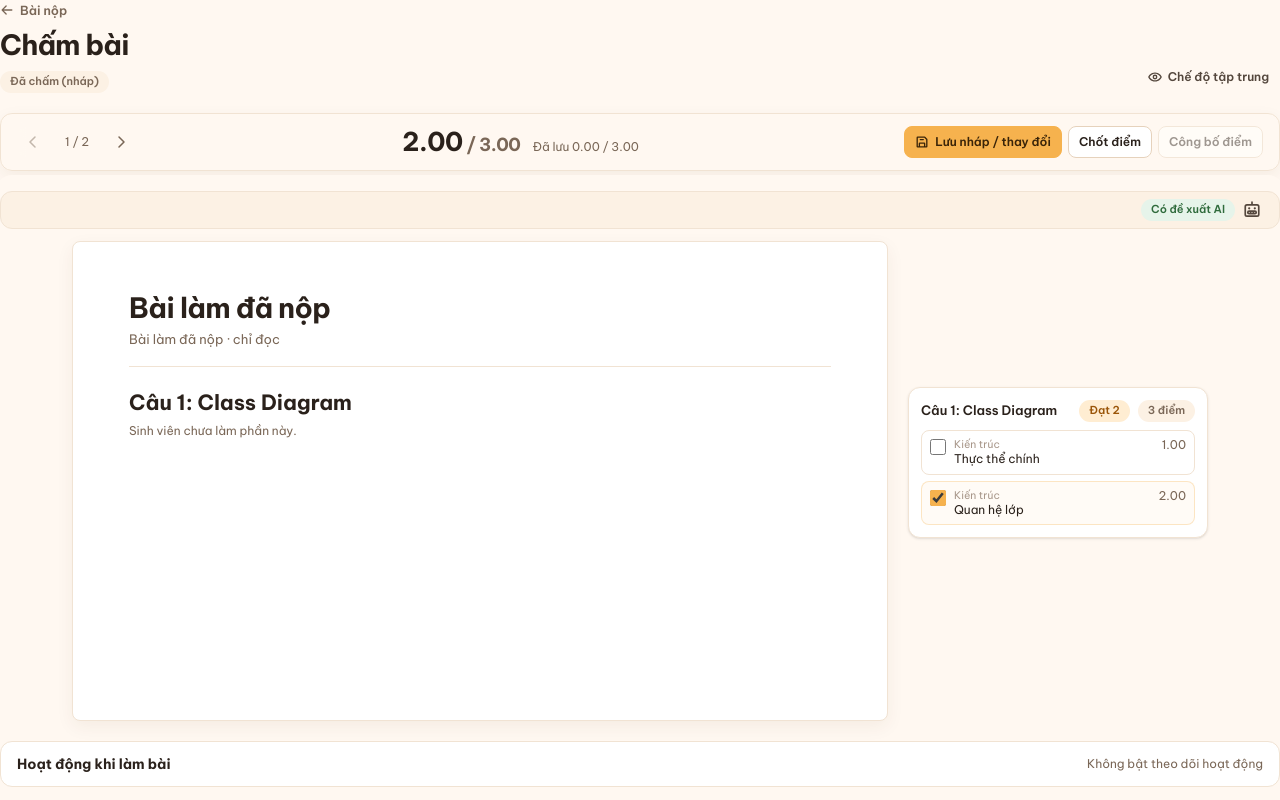
Test case: AI proposal comparison and draft application › compares the current checklist with the AI proposal and applies only to the local draft
Expected: the text "Có đề xuất AI" is shown, [1141,199,1235,221]
Click the button named "Chấm bằng AI". click: click(1252, 210)
box: [1237,196,1267,224]
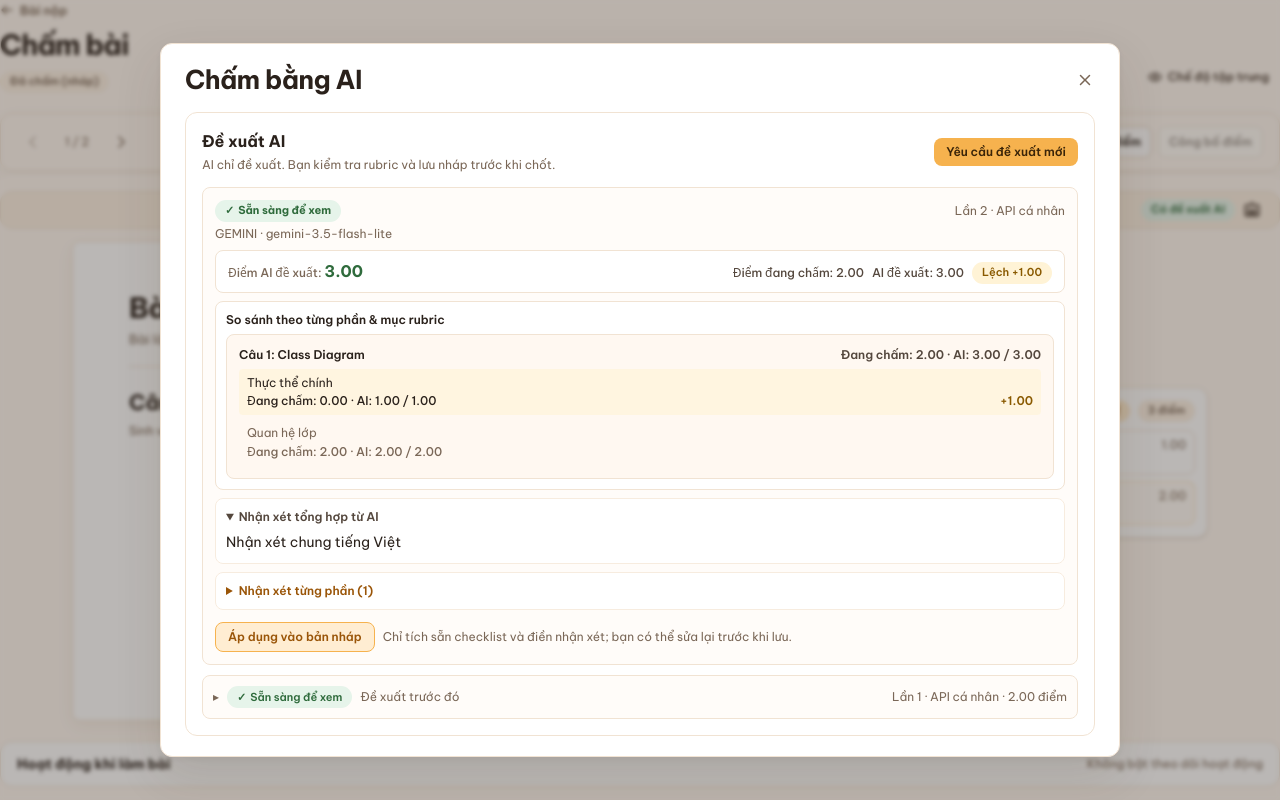
Now the dialog "Chấm bằng AI" shows "Điểm đang chấm: 2.00"
Now the dialog "Chấm bằng AI" shows "AI đề xuất: 3.00"
Now the dialog "Chấm bằng AI" shows "Lệch +1.00"
Click the button "Áp dụng vào bản nháp". click: click(295, 637)
box: [215,622,375,652]
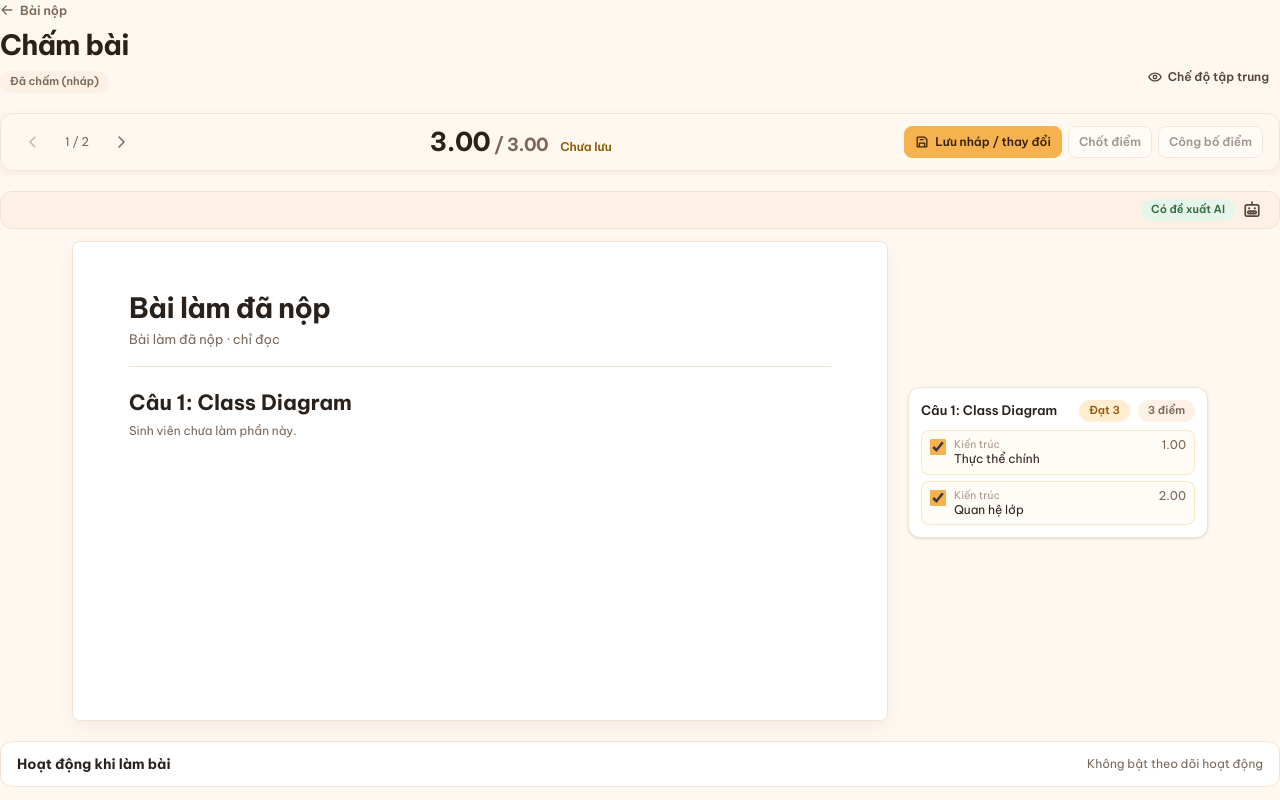
Now the dialog is gone
Now the checkbox labelled "Kiến trúc Thực thể chính 1.00" is checked, box [930,439,946,455]
Now the text "Nhận xét chung tiếng Việt" is gone
